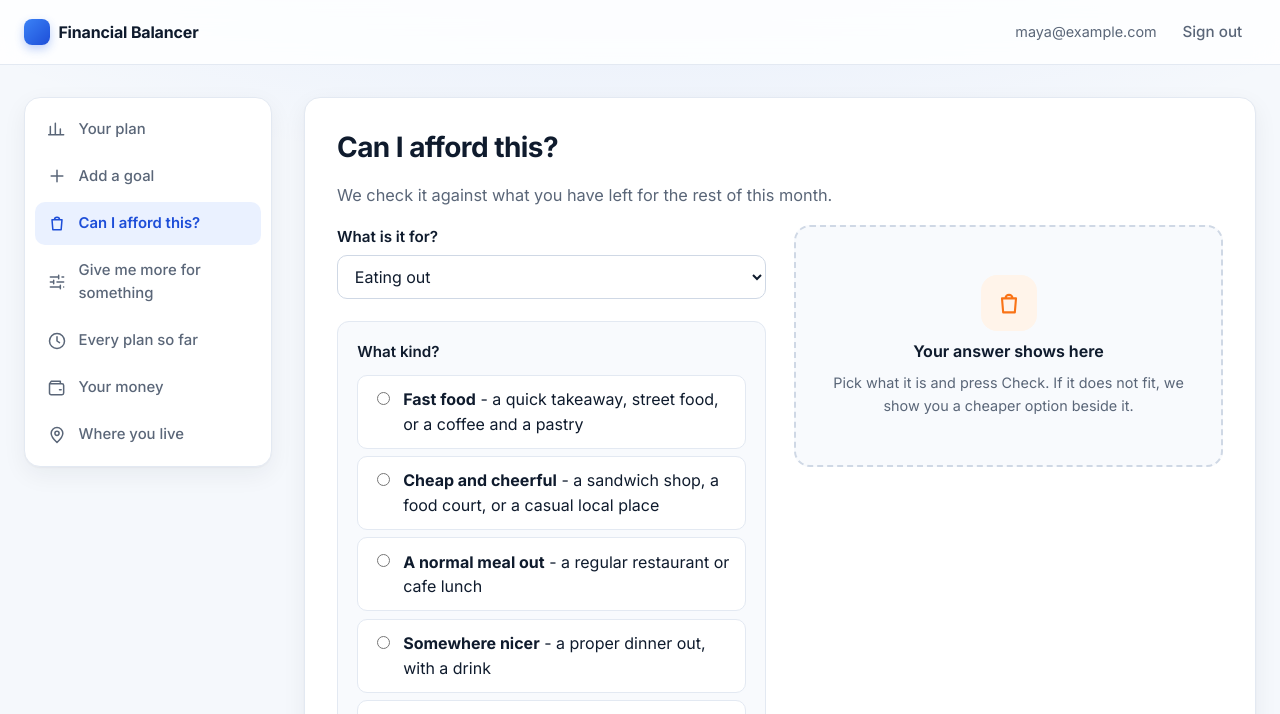
can I afford this? › prices anything else by what the user says it costs, and says when it runs into next month
This screenshot has width=1280, height=714.
Select "Clothes" in the dropdown labelled "What is it for?" at coordinates (552, 277), box [337, 255, 766, 299]
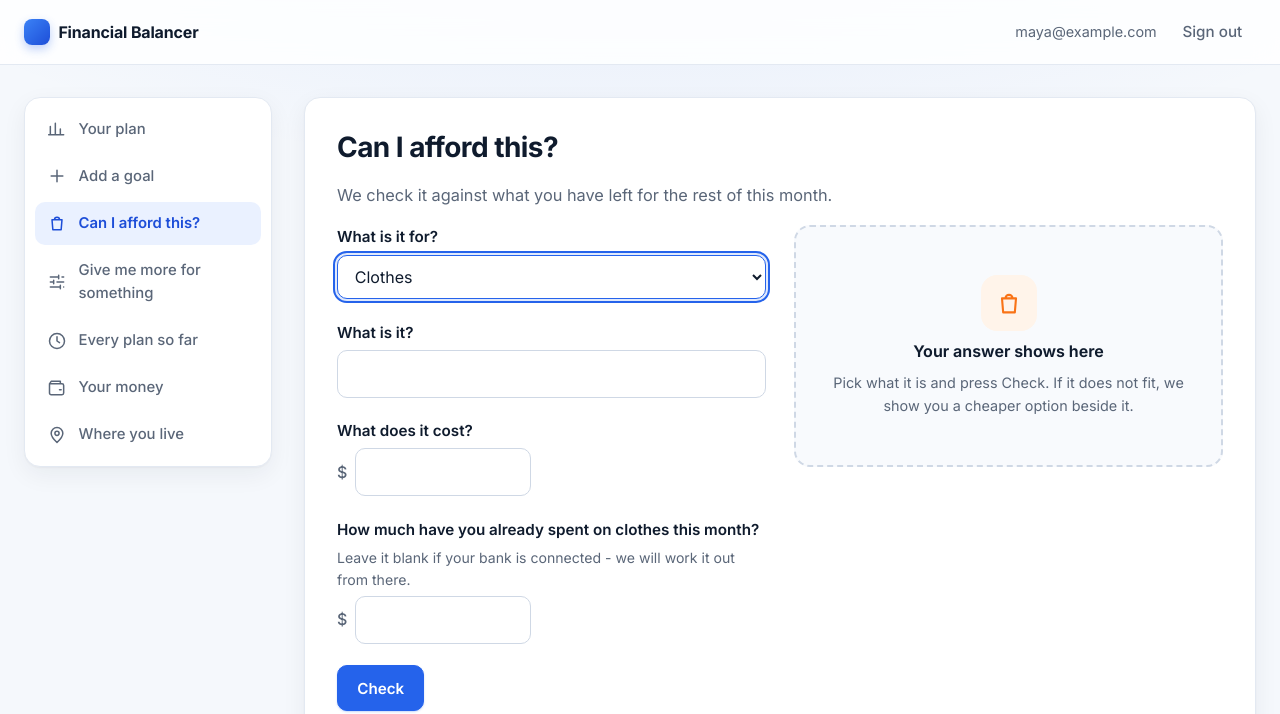
Type "Winter jacket" into the field labelled "What is it?" at coordinates (552, 374), box [337, 350, 766, 398]
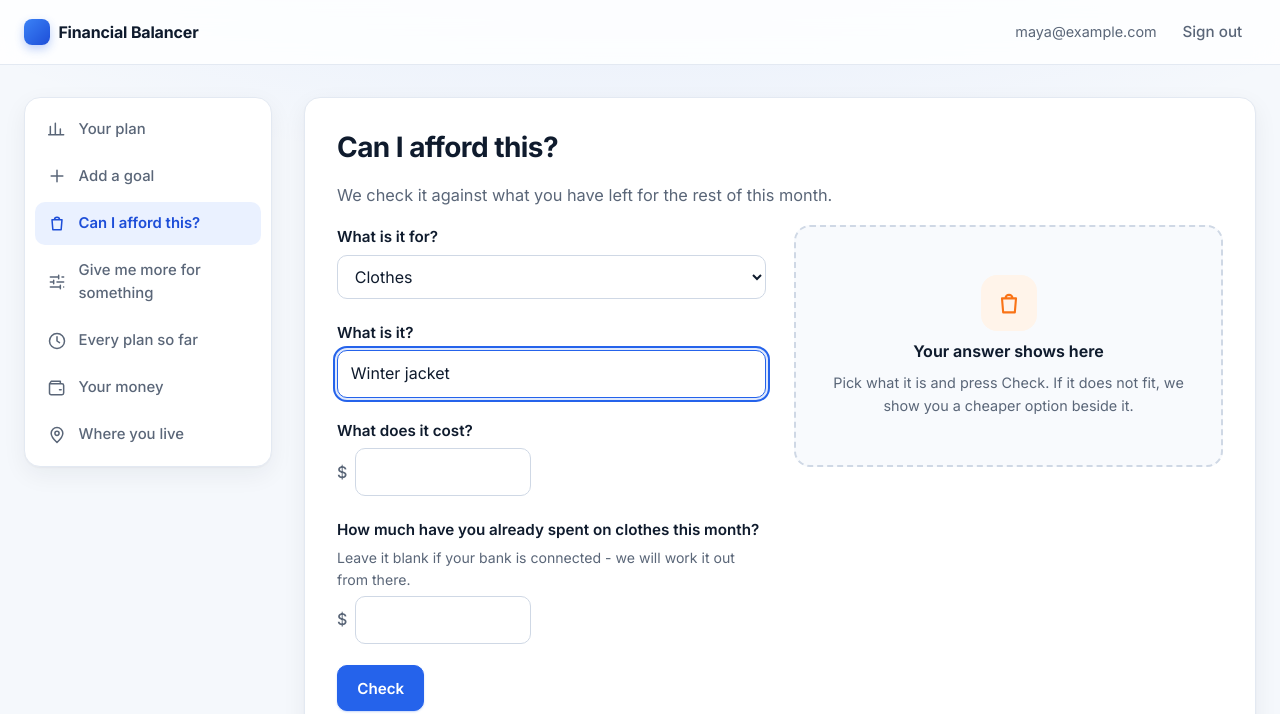
Type "200" into the field labelled "What does it cost?" at coordinates (443, 472), box [355, 448, 531, 496]
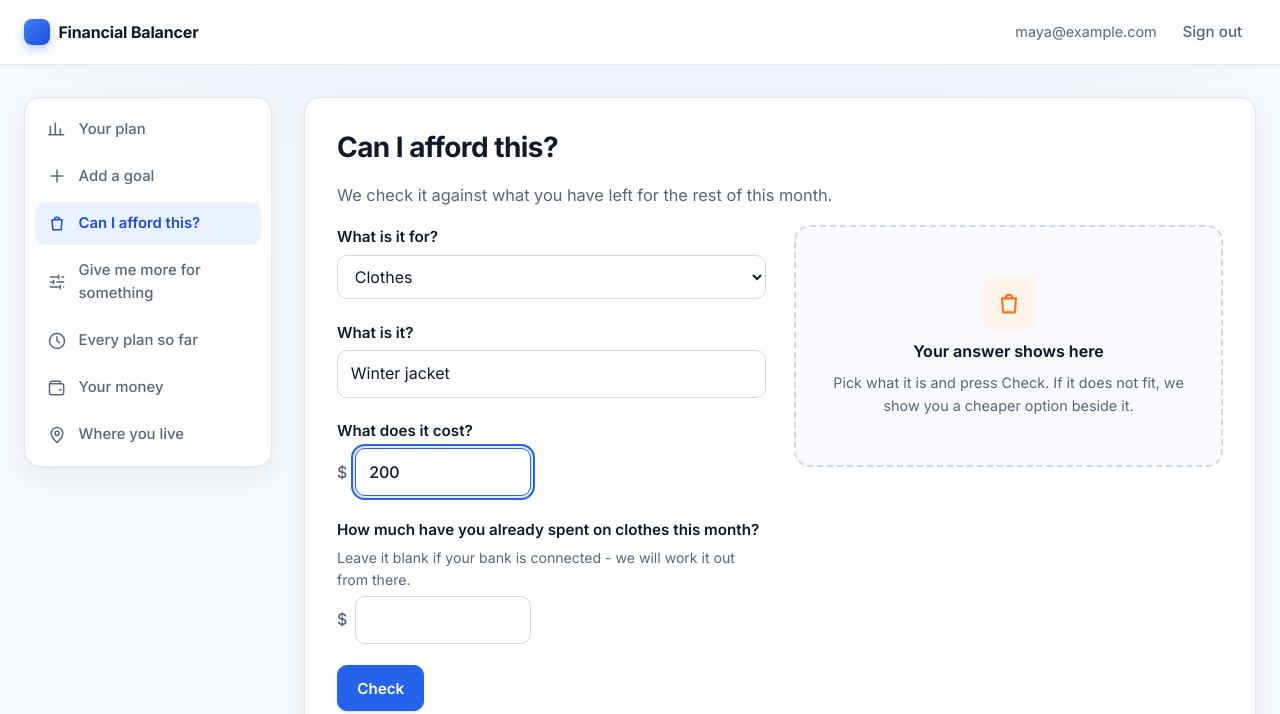
Type "0" into the field labelled "How much have you already spent on clothes this month?" at coordinates (443, 620), box [355, 596, 531, 644]
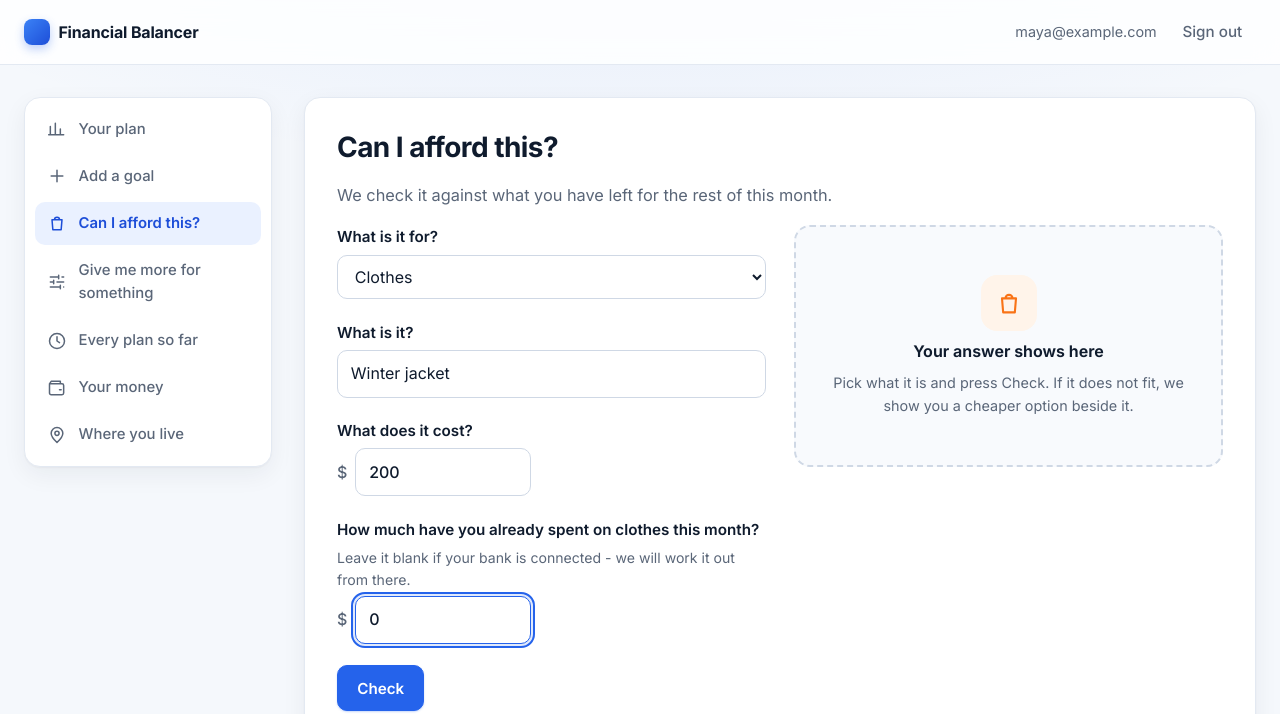
Click the button "Check" at coordinates (381, 688), box [337, 665, 424, 711]
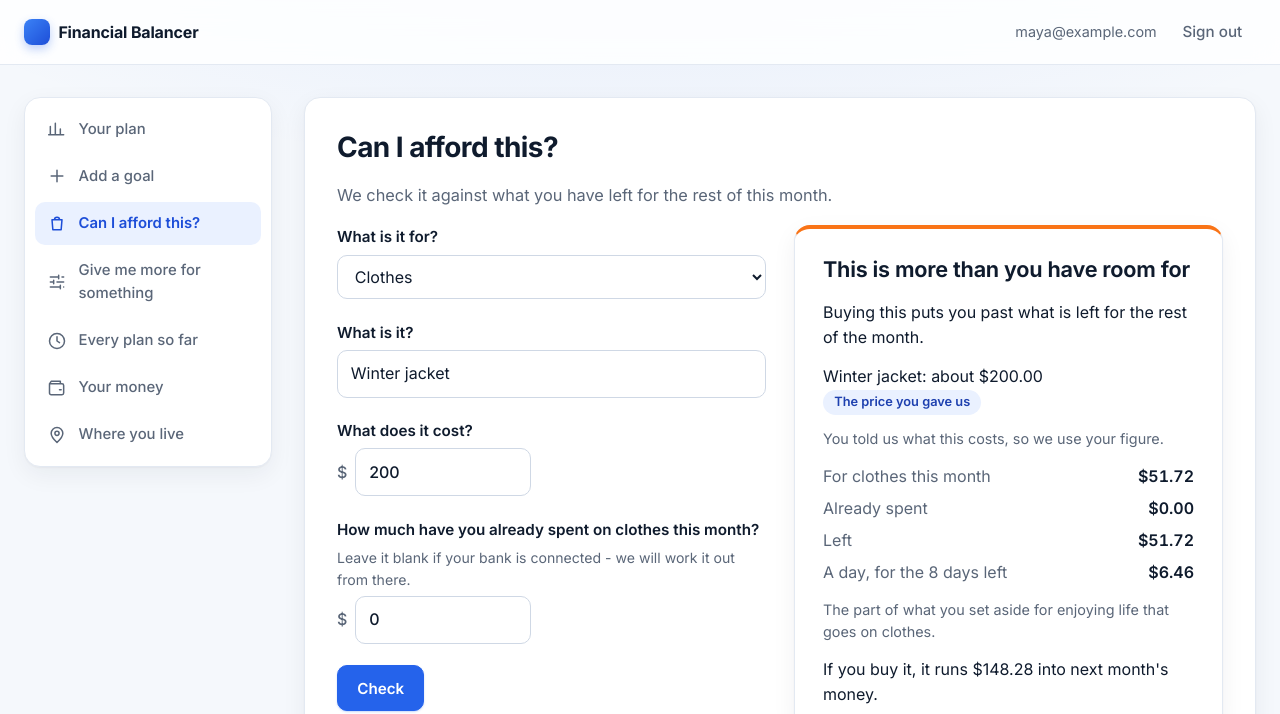
Expected: the heading "This is more than you have room for" is shown, [823, 253, 1194, 287]
Expected: the text "If you buy it, it runs $148.28 into next month's money." is shown, [823, 657, 1194, 706]
